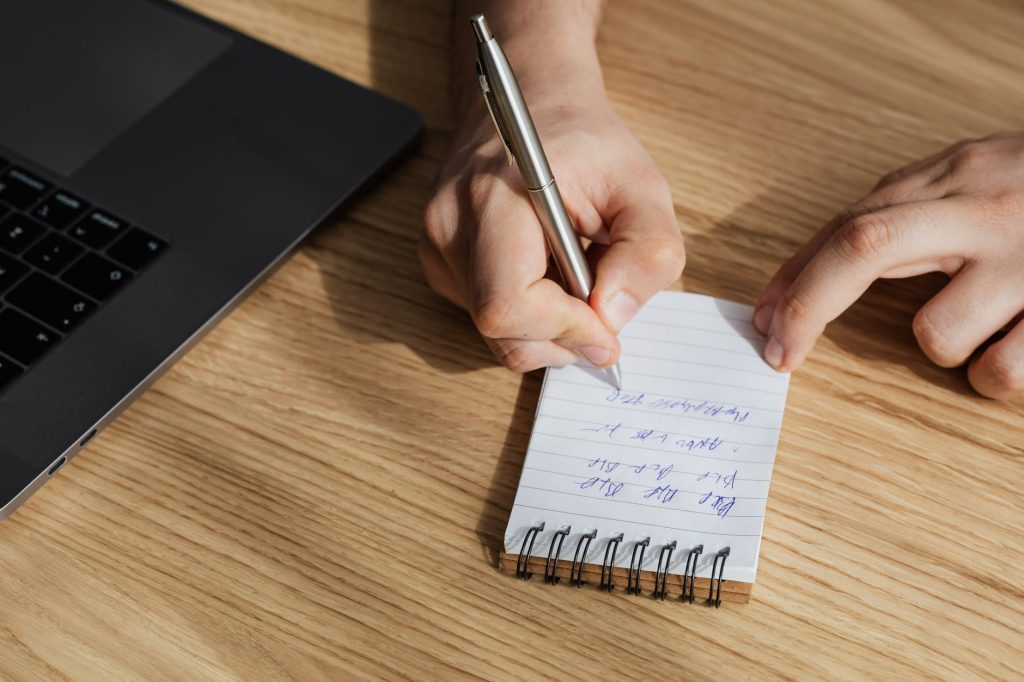Note: (507, 272, 787, 591)
